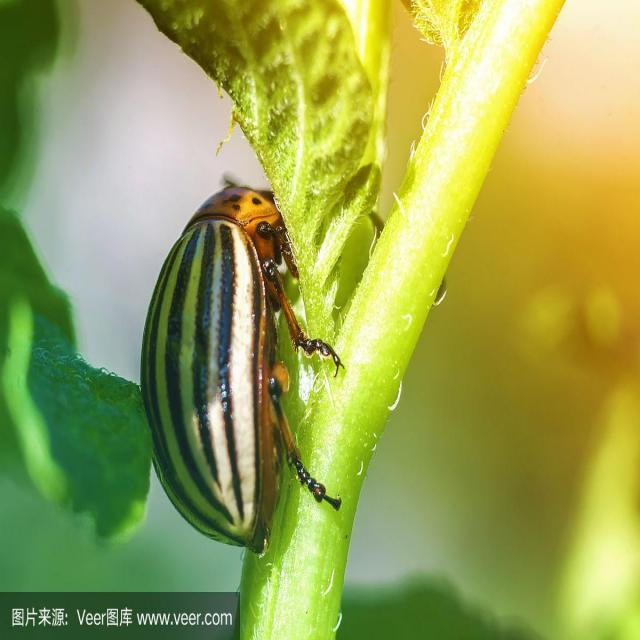ShuCaiHuaBanChong-Grown-: (144, 170, 322, 574)
